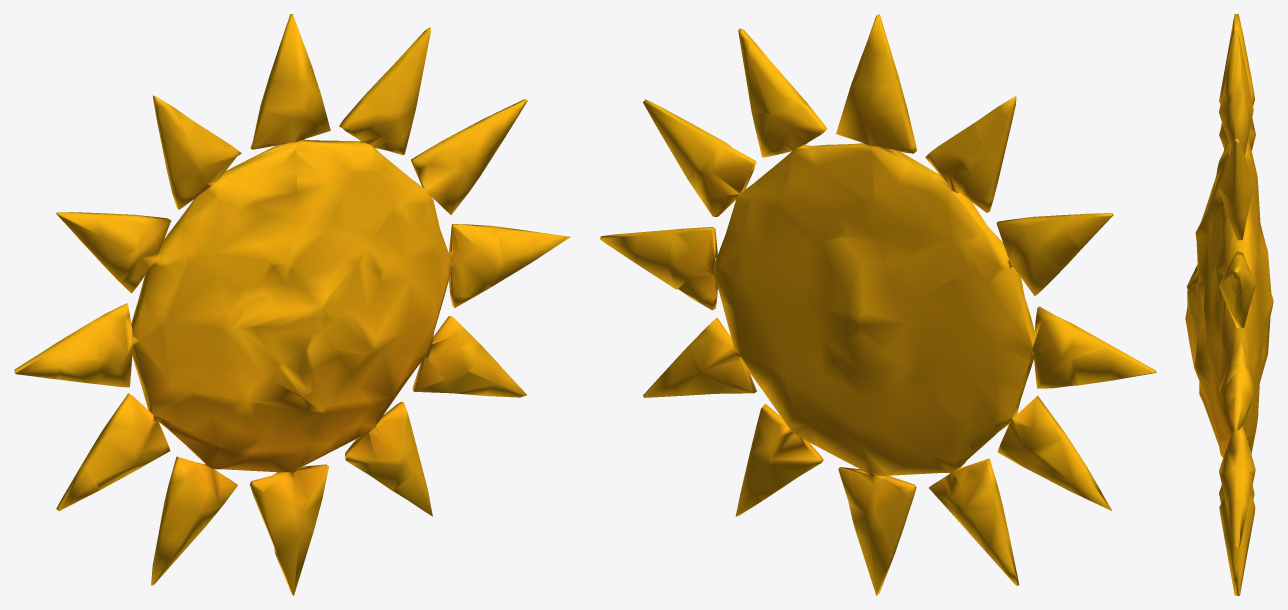
The model's file is sun.glb.
The picture shows the model from 3 angles, left to right: view 1: azimuth 30°, elevation 25°; view 2: azimuth 150°, elevation 25°; view 3: azimuth 270°, elevation 25°; orthographic projection. The views are drawn at different scales.
Visible parts, largest first — view 1: mesh_node; view 2: mesh_node; view 3: mesh_node.
Part boxes in pixels (box(x1,y1,x2,y2)): mesh_node: box(14, 14, 570, 595); mesh_node: box(599, 14, 1156, 595); mesh_node: box(1185, 14, 1273, 595).
Bounding box in the file's own units: 1.9 × 1.9 × 0.2801.
Materials: 1 (1 with a texture image).
